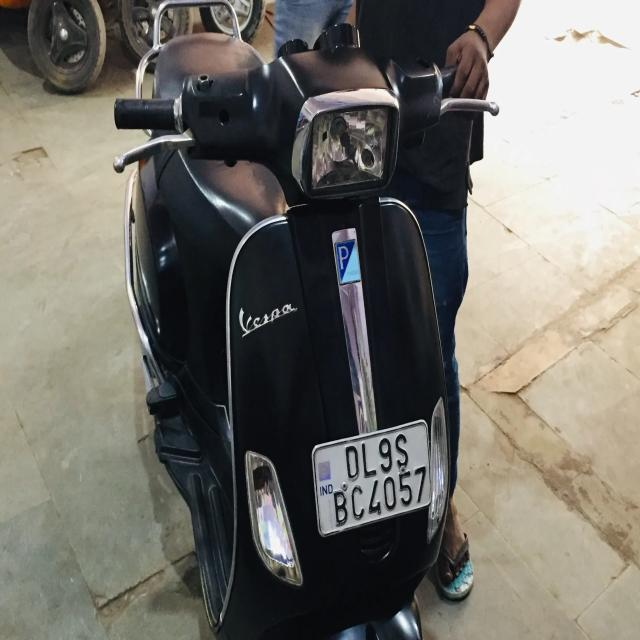Motor-Cycle: (119, 0, 454, 640)
Plate: (312, 421, 433, 527)
